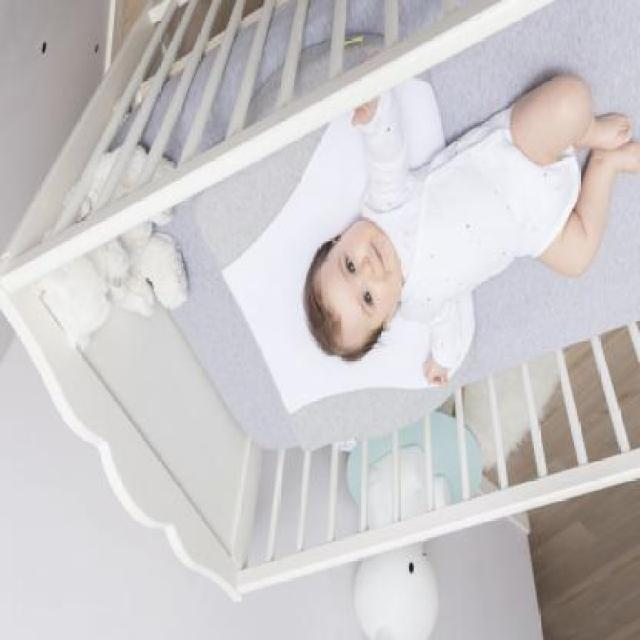baby: (302, 70, 640, 390)
